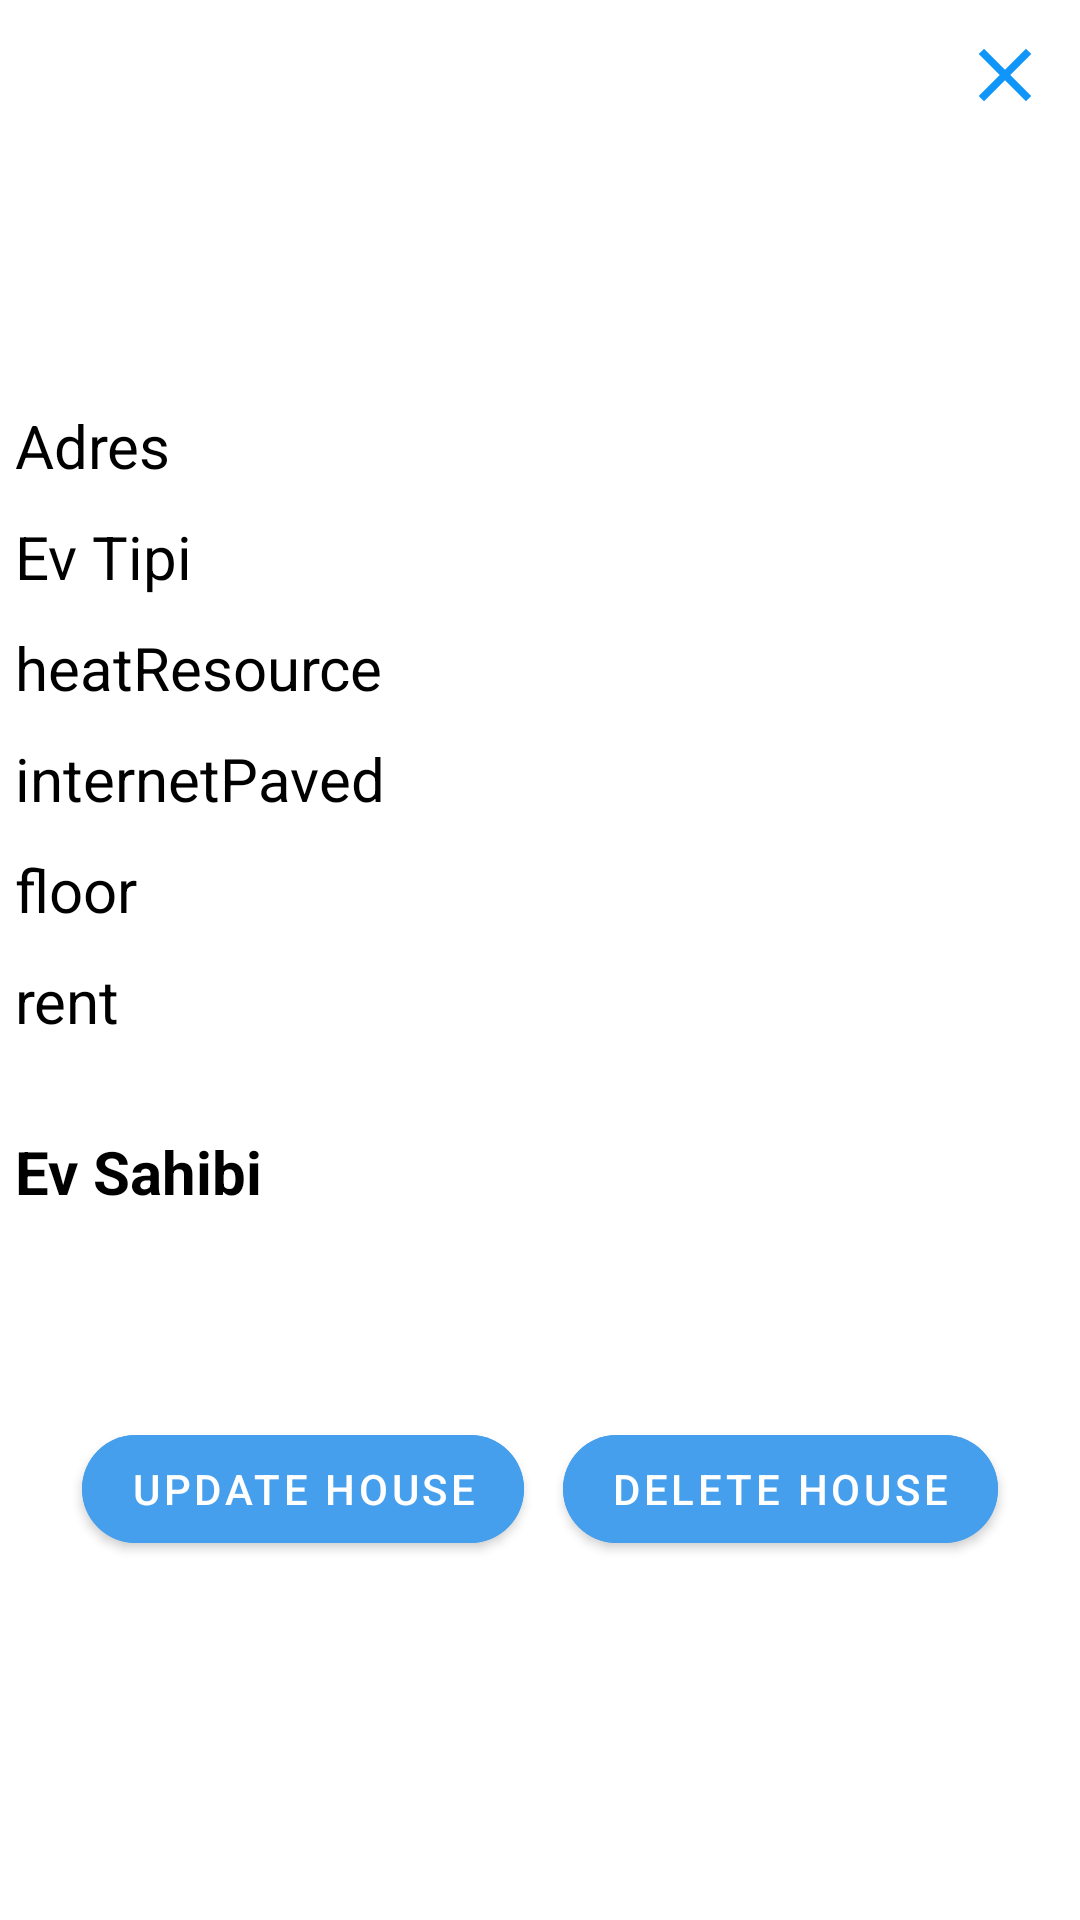

Icons on this 1080w x 1920h Android screen, each with its box as bbox=(x1, y1, x2, y2):
close: bbox=(979, 49, 1031, 101)
